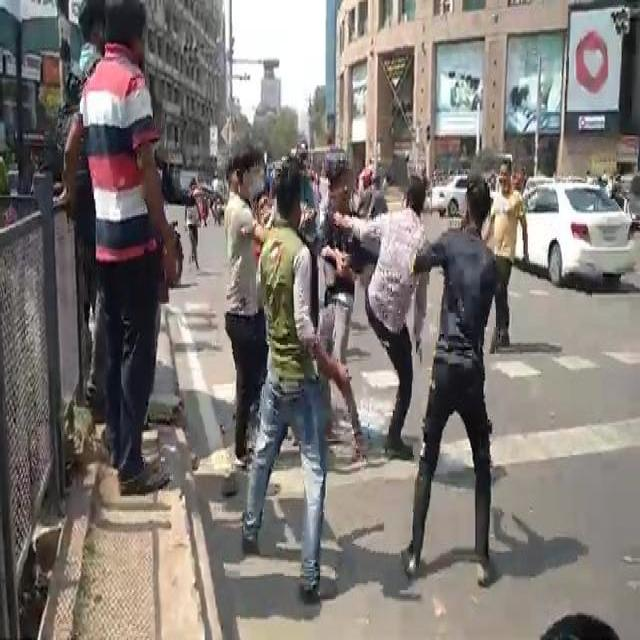fight: (229, 123, 497, 576), (48, 0, 187, 492)
